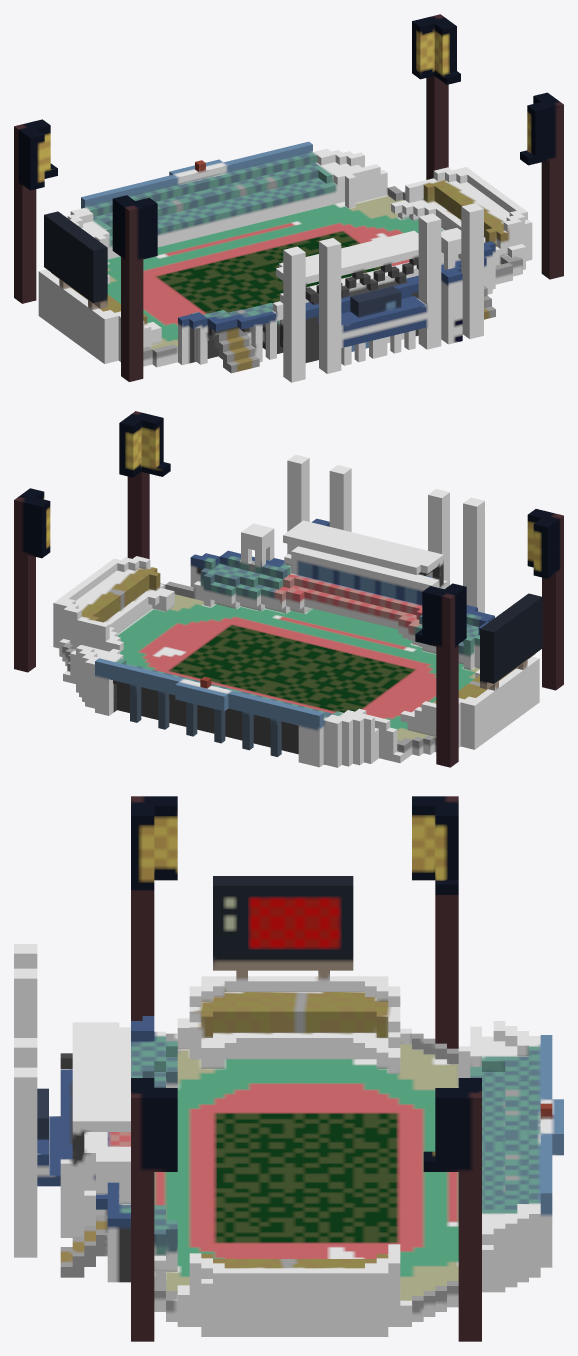
File: rikuzyoukyougijyou.glb
The picture shows the model from 3 angles, top to bottom: view 1: azimuth 30°, elevation 25°; view 2: azimuth 150°, elevation 25°; view 3: azimuth 270°, elevation 25°; orthographic projection. The views are drawn at different scales.
Visible parts, largest first — view 1: rikuzyoukyougijyou; view 2: rikuzyoukyougijyou; view 3: rikuzyoukyougijyou.
Boxes of the visible parts, bbox=[...] form: rikuzyoukyougijyou: bbox=[14, 14, 563, 382]; rikuzyoukyougijyou: bbox=[14, 411, 563, 767]; rikuzyoukyougijyou: bbox=[14, 796, 563, 1341].
Size of the model in its own units: 1.24 by 0.46 by 0.94.
Materials: 1 (1 with a texture image).
